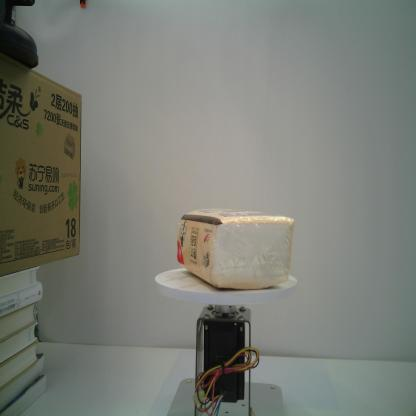Tissue: (176, 205, 296, 292)
